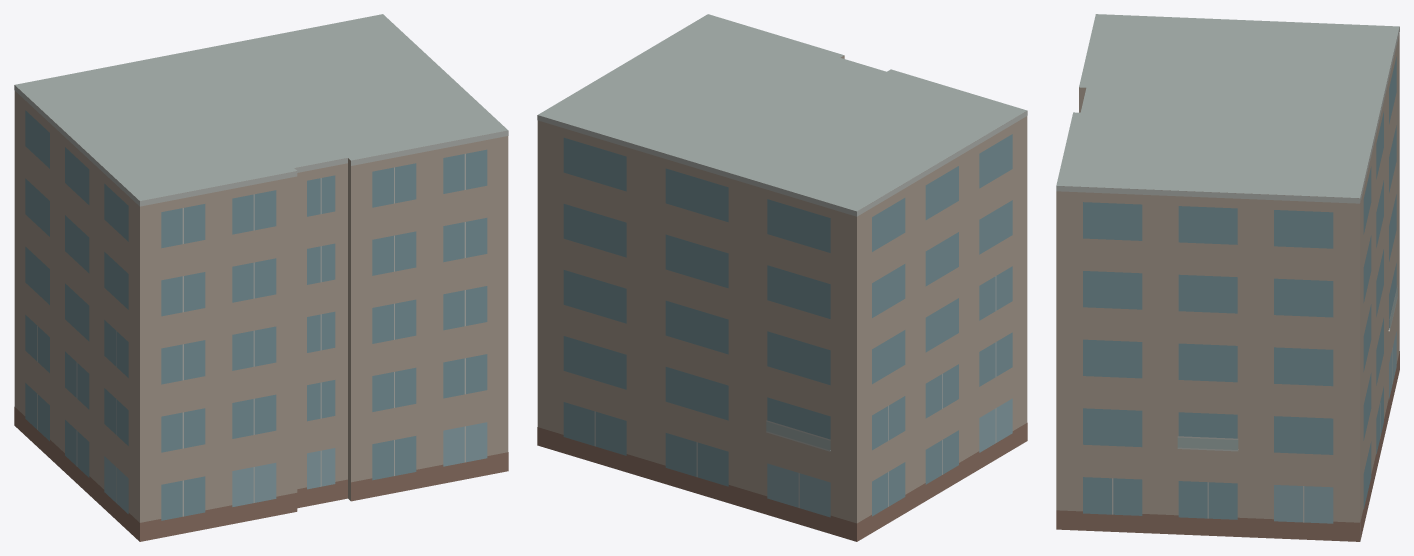
The model's file is survey-upis-33004504.glb.
3 views of the same model, side by side, from view 1: azimuth 30°, elevation 25°; view 2: azimuth 150°, elevation 25°; view 3: azimuth 270°, elevation 25° (orthographic). The views are drawn at different scales.
Parts seen in each view (by area): view 1: survey-upis-33004504.tmp; view 2: survey-upis-33004504.tmp; view 3: survey-upis-33004504.tmp.
Part boxes in pixels (x1,y1,x2,y2): survey-upis-33004504.tmp: [14, 14, 508, 541]; survey-upis-33004504.tmp: [537, 14, 1027, 541]; survey-upis-33004504.tmp: [1056, 14, 1399, 541].
Size of the model in its own units: 17.53 by 15.25 by 13.82.
